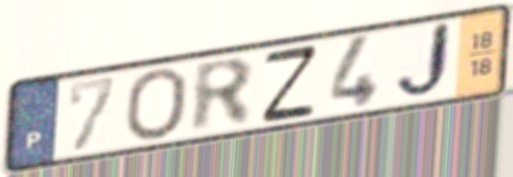4: (327, 32, 382, 114)
7: (65, 74, 118, 155)
J: (391, 17, 455, 103)
O: (122, 65, 191, 143)
R: (189, 55, 257, 137)
Z: (259, 41, 320, 126)
